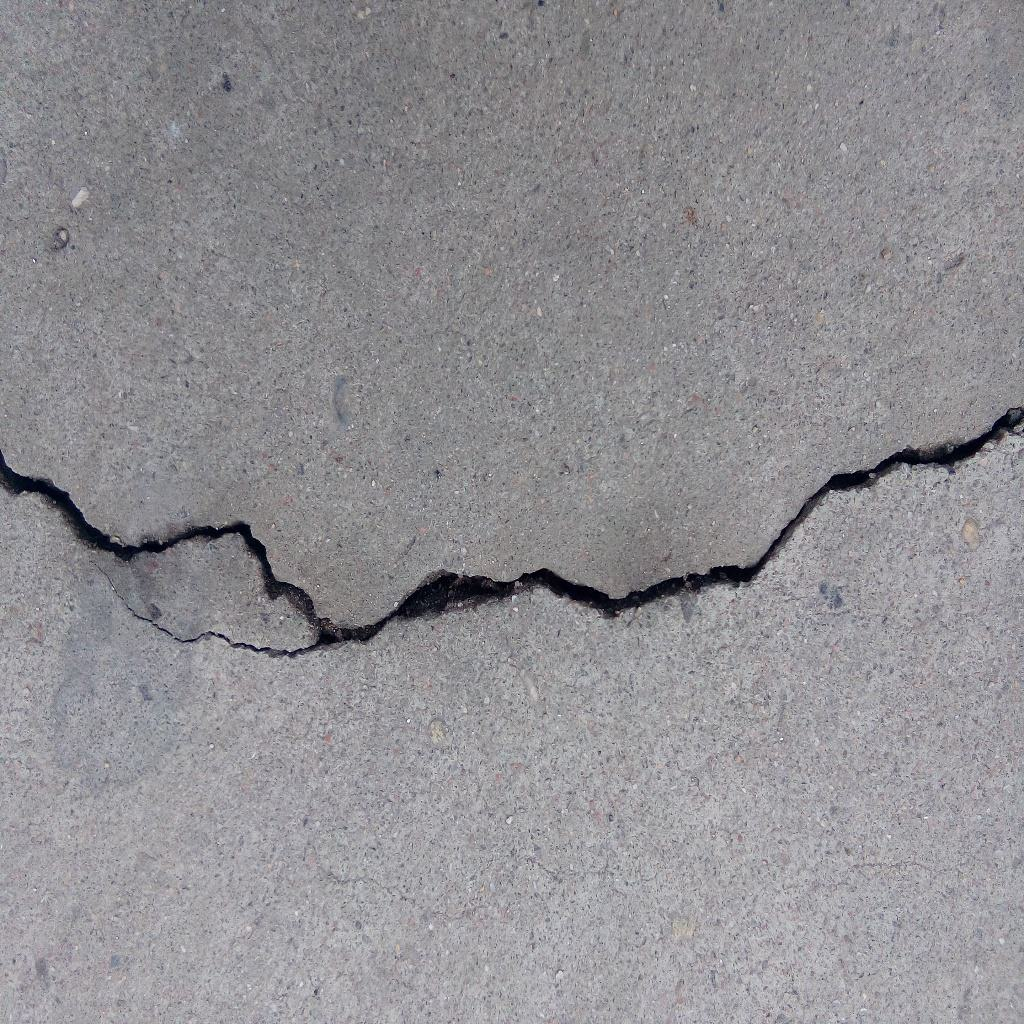Crack: (1, 404, 1024, 660)
